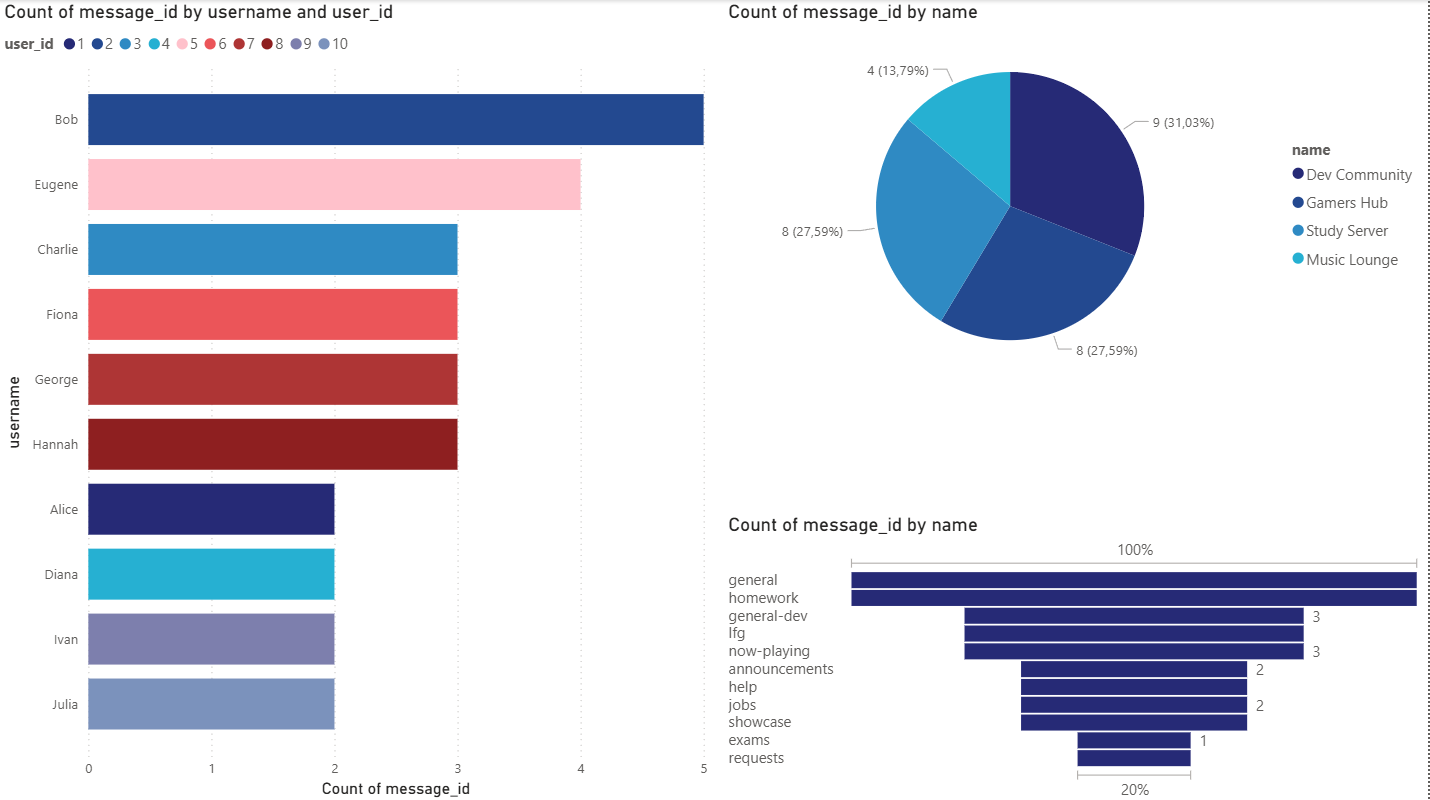

This screenshot's page, from the dashboard's own definition file:
{"tool":"powerbi","page":{"name":"Страница 1","canvas":[1280,720],"ordinal":0},"visuals":[{"type":"pieChart","fields":{"Y":["Message.message_id"],"Category":["Server.name"]},"box":[648.8,0,631.2,350.2],"z":0},{"type":"barChart","fields":{"Category":["User.username"],"Y":["Message.message_id"],"Series":["User.user_id"]},"box":[0,0,640,719.8],"z":1000},{"type":"funnel","fields":{"Y":["Message.message_id"],"Category":["Channel.name"]},"box":[648.8,459.1,631.2,260.7],"z":2000}]}

Visuals, with their boxes in screenshot pixels (x1, y1, x2, y2), scaled from the page's 1280x720 canvas onto the 1430x800 screenshot:
pieChart - Message.message_id x Server.name: box=[725, 0, 1429, 389]
barChart - User.username x Message.message_id: box=[0, 0, 715, 799]
funnel - Message.message_id x Channel.name: box=[725, 510, 1429, 799]
